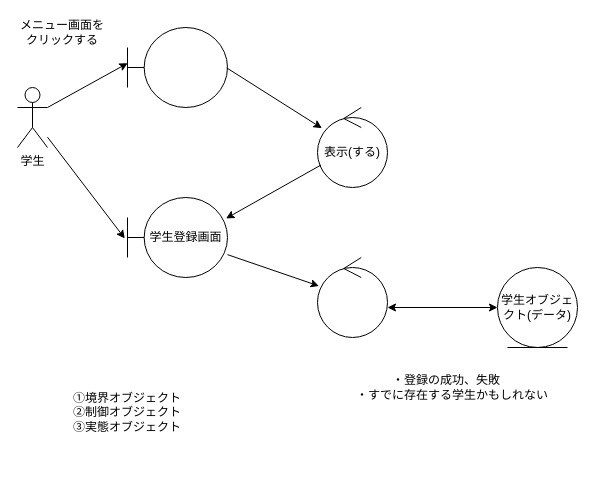
Some shapes in this 595 by 484 pixel diagram are drawn without their labels. The shapes that lost their labels are listed below. From the top down, each one's centre as x and y in pixels, then its label:
pixel 177 67: メニュー画面
pixel 352 297: 学生情報 登録
